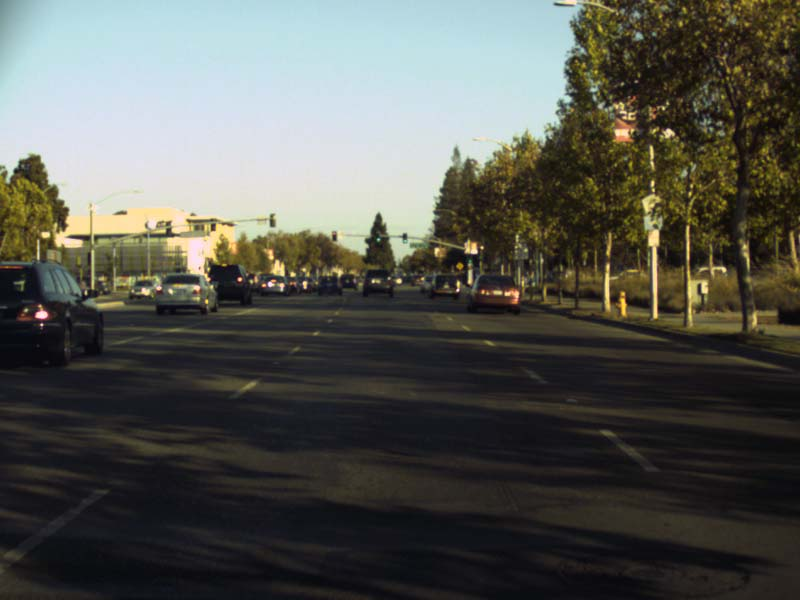Green: (374, 232, 381, 244), (402, 232, 407, 243), (467, 254, 472, 264), (478, 250, 483, 260)
Red: (332, 230, 337, 241)
